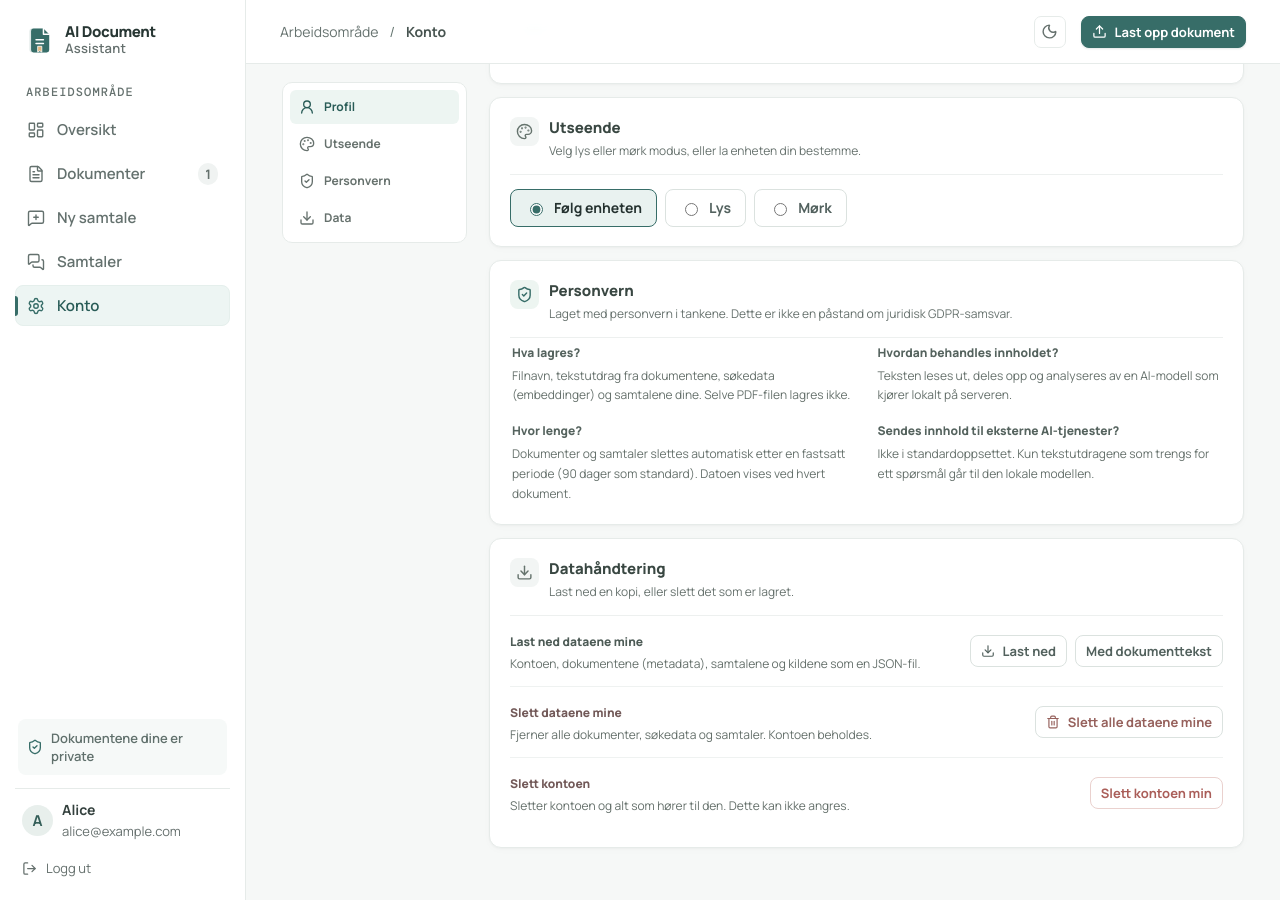
Scenario: account and privacy › shows the server's message when the password is wrong, and deletes nothing
(page scrolled)
Click the button "Slett kontoen min" at (1156, 793), box [1090,777,1223,809]
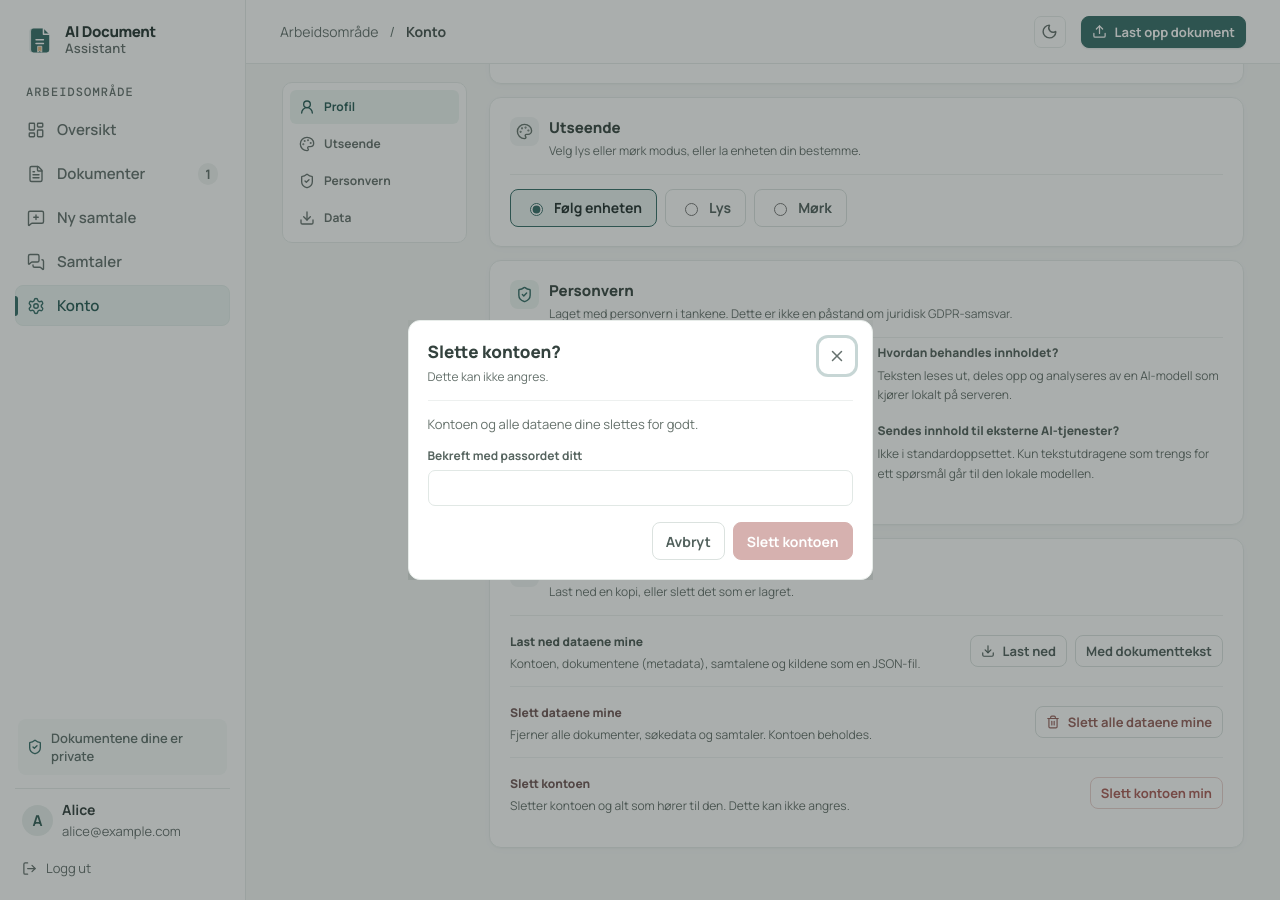
Type "feil-passord" into the password field labelled "Bekreft med passordet ditt" at (640, 488), box [428,470,852,506]
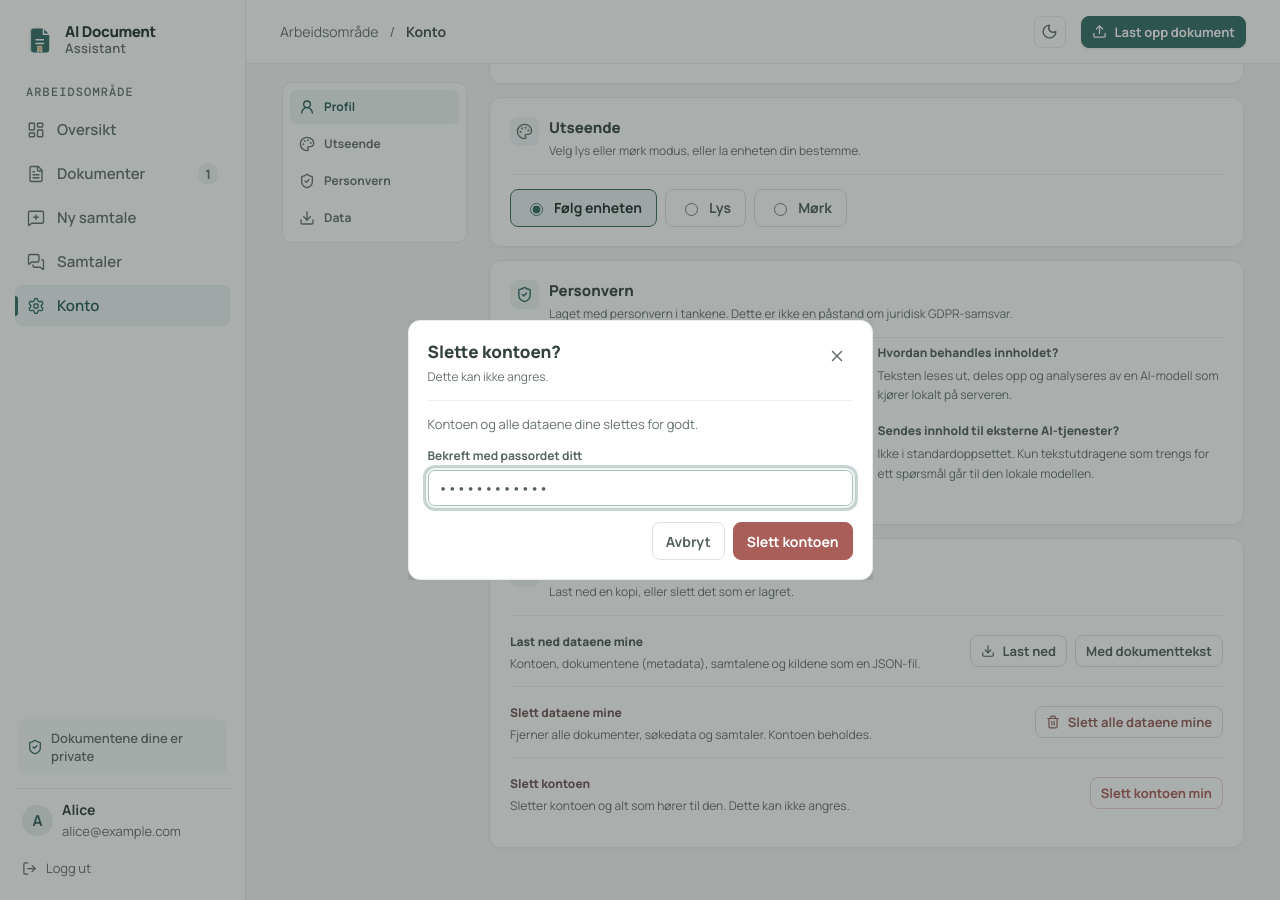
Click the button "Slett kontoen" at (793, 541), box [733,522,852,560]
(page scrolled)
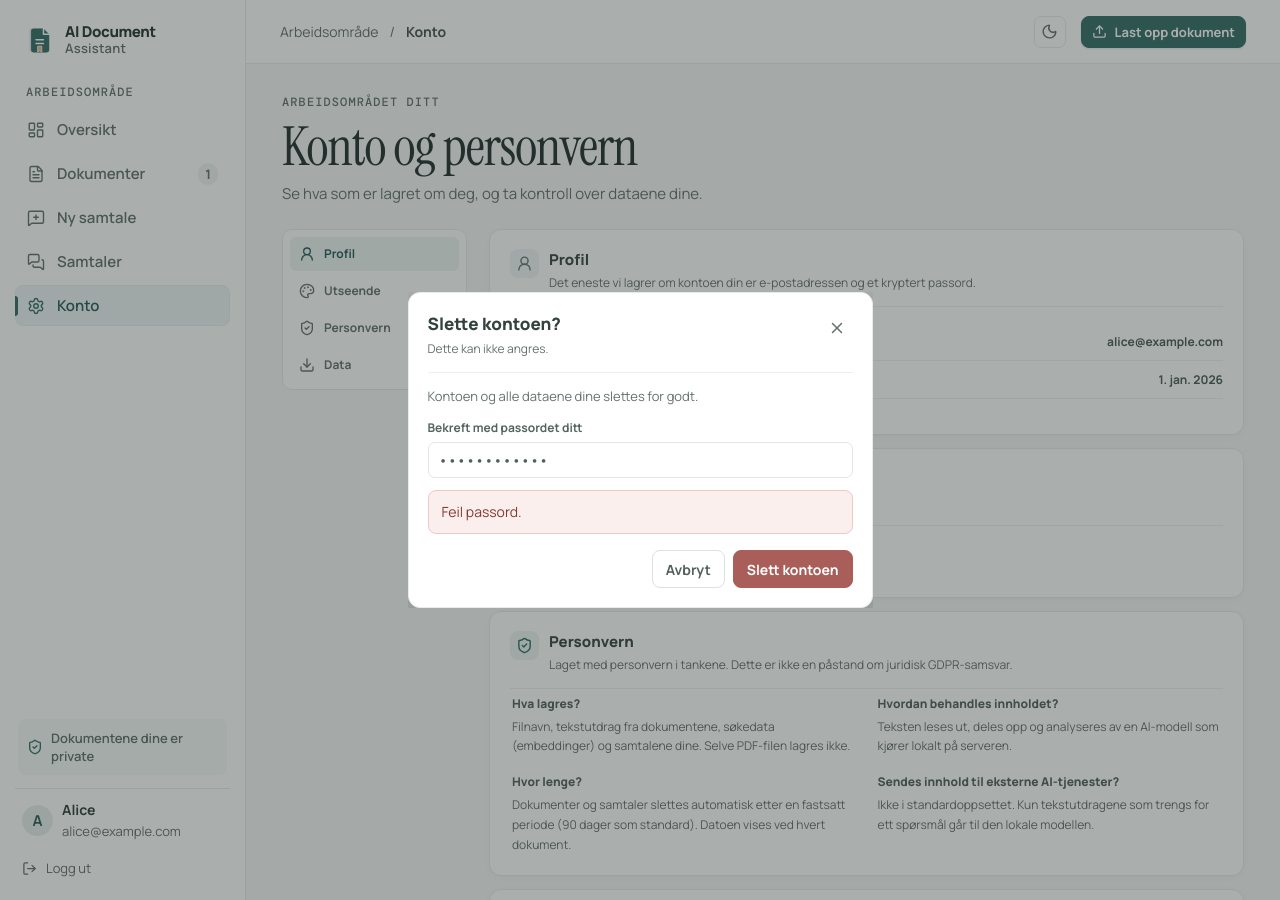
Expected: the heading "Konto og personvern" is shown, [282,112,637,182]
Expected: the message reads "Feil passord.", [442,502,522,521]
